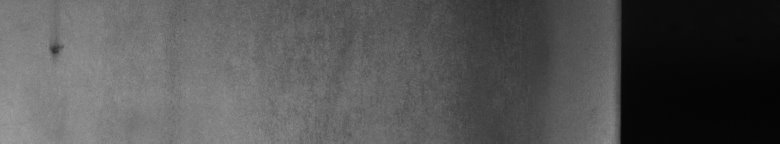fi: (44, 40, 64, 57)
